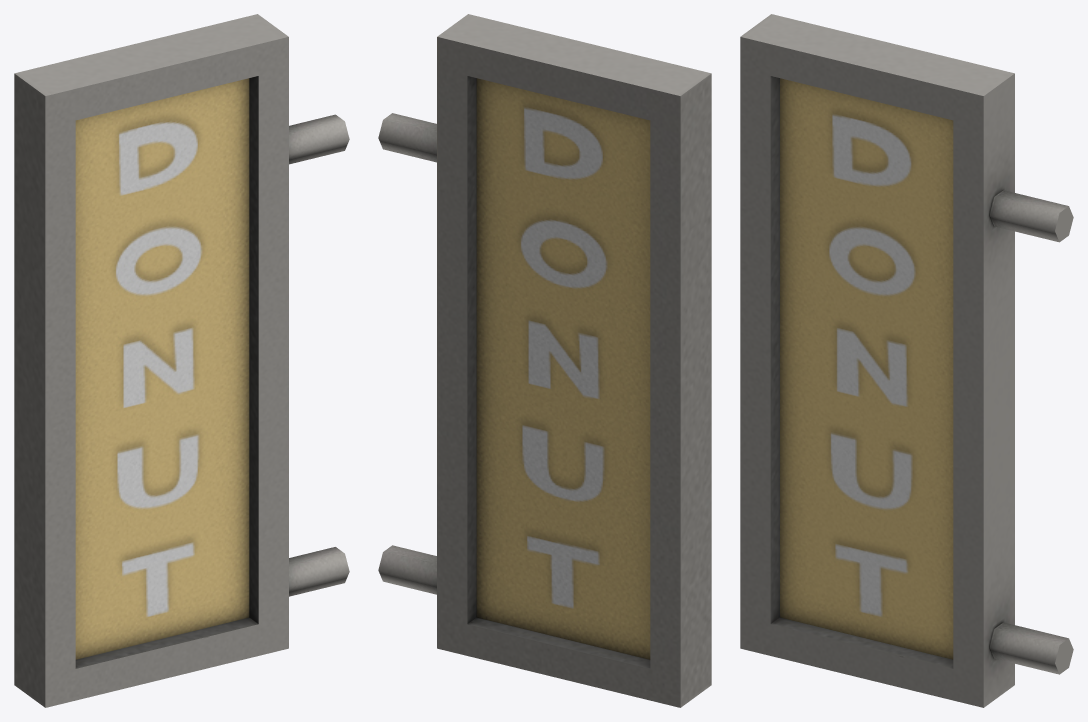
File: Prop_Sign02.FBX
The picture shows the model from 3 angles, left to right: view 1: azimuth 30°, elevation 25°; view 2: azimuth 150°, elevation 25°; view 3: azimuth 330°, elevation 25°; orthographic projection.
Visible parts, largest first — view 1: Box007; view 2: Box007; view 3: Box007.
Part boxes in pixels (x1,y1,x2,y2): Box007: (14, 14, 349, 707); Box007: (378, 14, 711, 707); Box007: (740, 14, 1073, 707).
Bounding box in the file's own units: 85.41 × 161 × 14.9.
